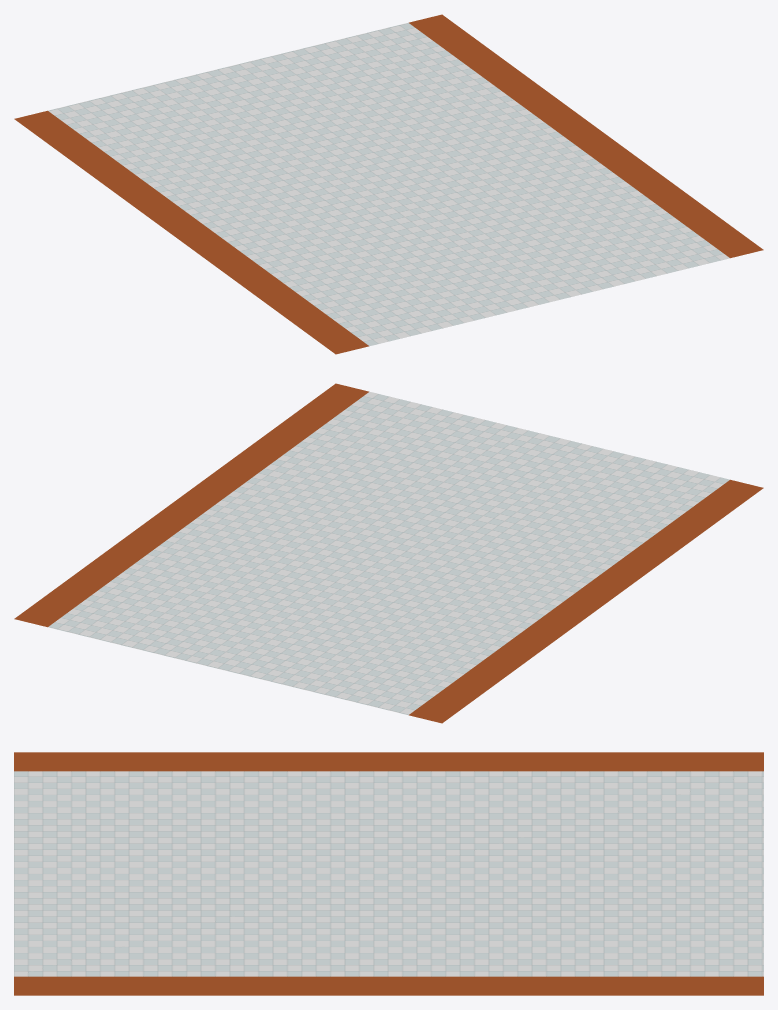
File: Floor Ground Long.fbx
3 views of the same model, one above another, from view 1: azimuth 30°, elevation 25°; view 2: azimuth 150°, elevation 25°; view 3: azimuth 270°, elevation 25° (orthographic). The views are drawn at different scales.
Parts seen in each view (by area): view 1: Floor Ground Long; view 2: Floor Ground Long; view 3: Floor Ground Long.
Boxes of the visible parts, x1,y1,x2,y2 form: Floor Ground Long: (14,14,763,354); Floor Ground Long: (14,383,763,723); Floor Ground Long: (14,752,763,995).
Bounding box in the file's own units: 52.71 × 2.3e-06 × 68.62.
2 materials, 1 textured.
